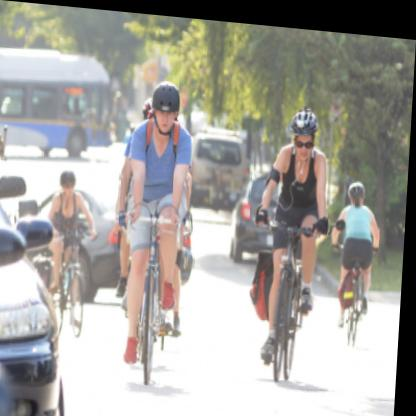With Helmet: (282, 94, 332, 161), (144, 68, 188, 135)
